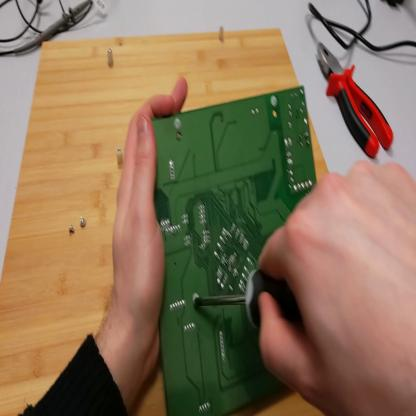hand: (255, 161, 416, 416), (112, 77, 188, 373)
low voltage board: (155, 90, 321, 415)
oscilloscope probe tip: (15, 1, 91, 56)
pliers: (318, 44, 394, 158)
screwdriver-: (199, 270, 307, 333)
working area: (2, 28, 331, 414)
